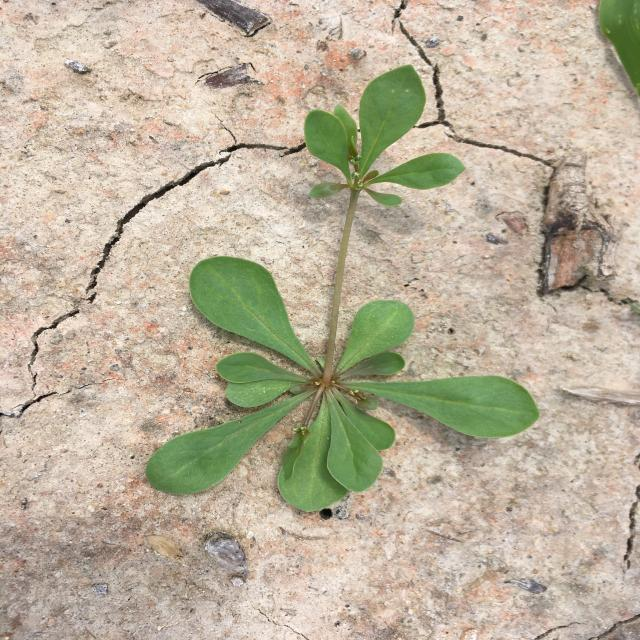Carpetweed: (145, 64, 540, 513)
